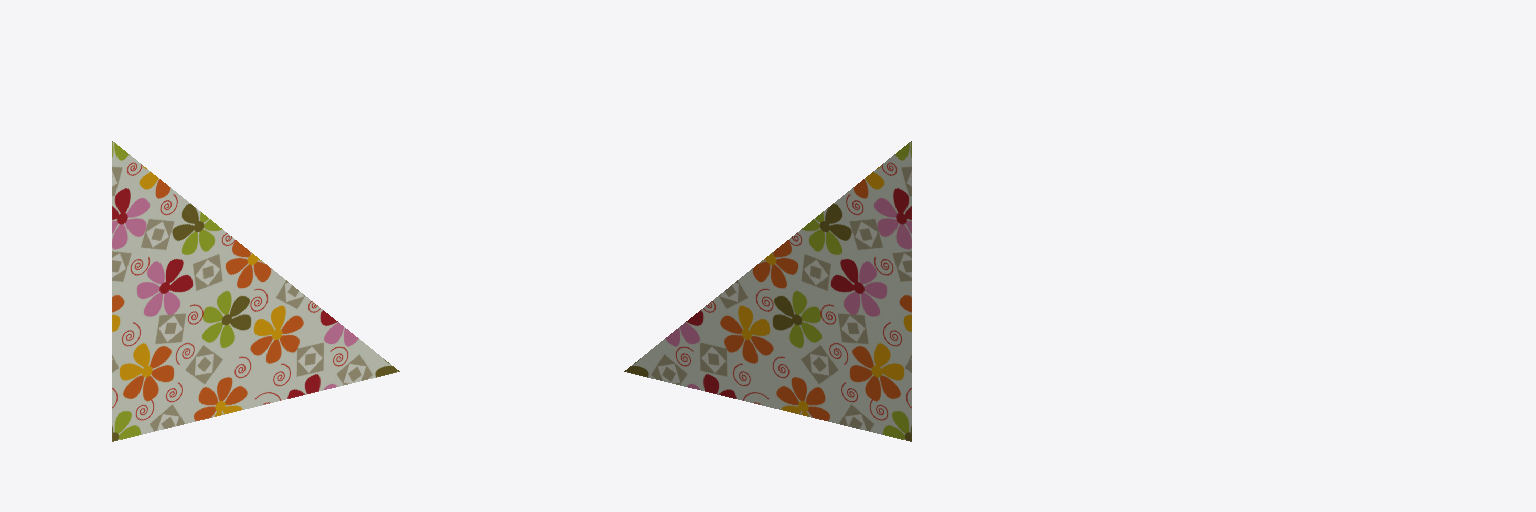
3 renders of one model, left to right at view 1: azimuth 30°, elevation 25°; view 2: azimuth 150°, elevation 25°; view 3: azimuth 270°, elevation 25°, orthographic.
Visible parts, largest first — view 1: Plane; view 2: Plane; view 3: none.
Part boxes in pixels (x1,y1,x2,y2): Plane: (112,141,399,441); Plane: (624,141,911,441).
Size of the model in its own units: 2 by 2 by 0.
Materials: 1 (1 with a texture image).